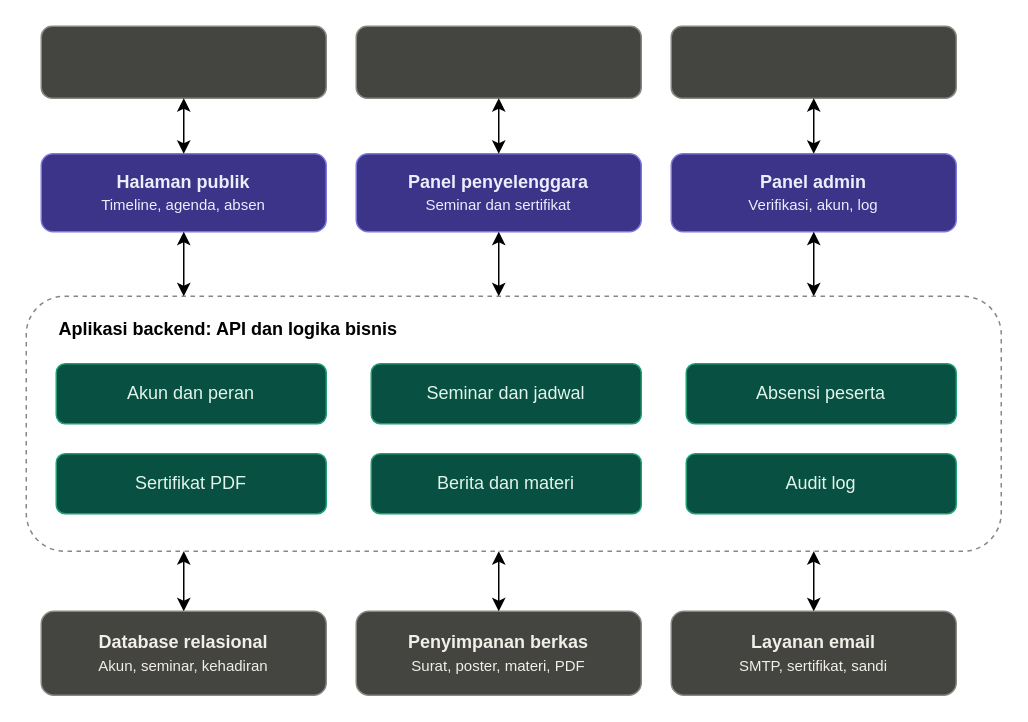
Image size: 1028x722. Some labels were removed from this diagram. The shapes that lost their labels are listed below. From the top down, each one's centre as x and y in pixels, then its label:
At [183,61]: "Pengunjung/Peserta".
At [498,61]: "Penyelenggara".
At [813,61]: "Admin".
